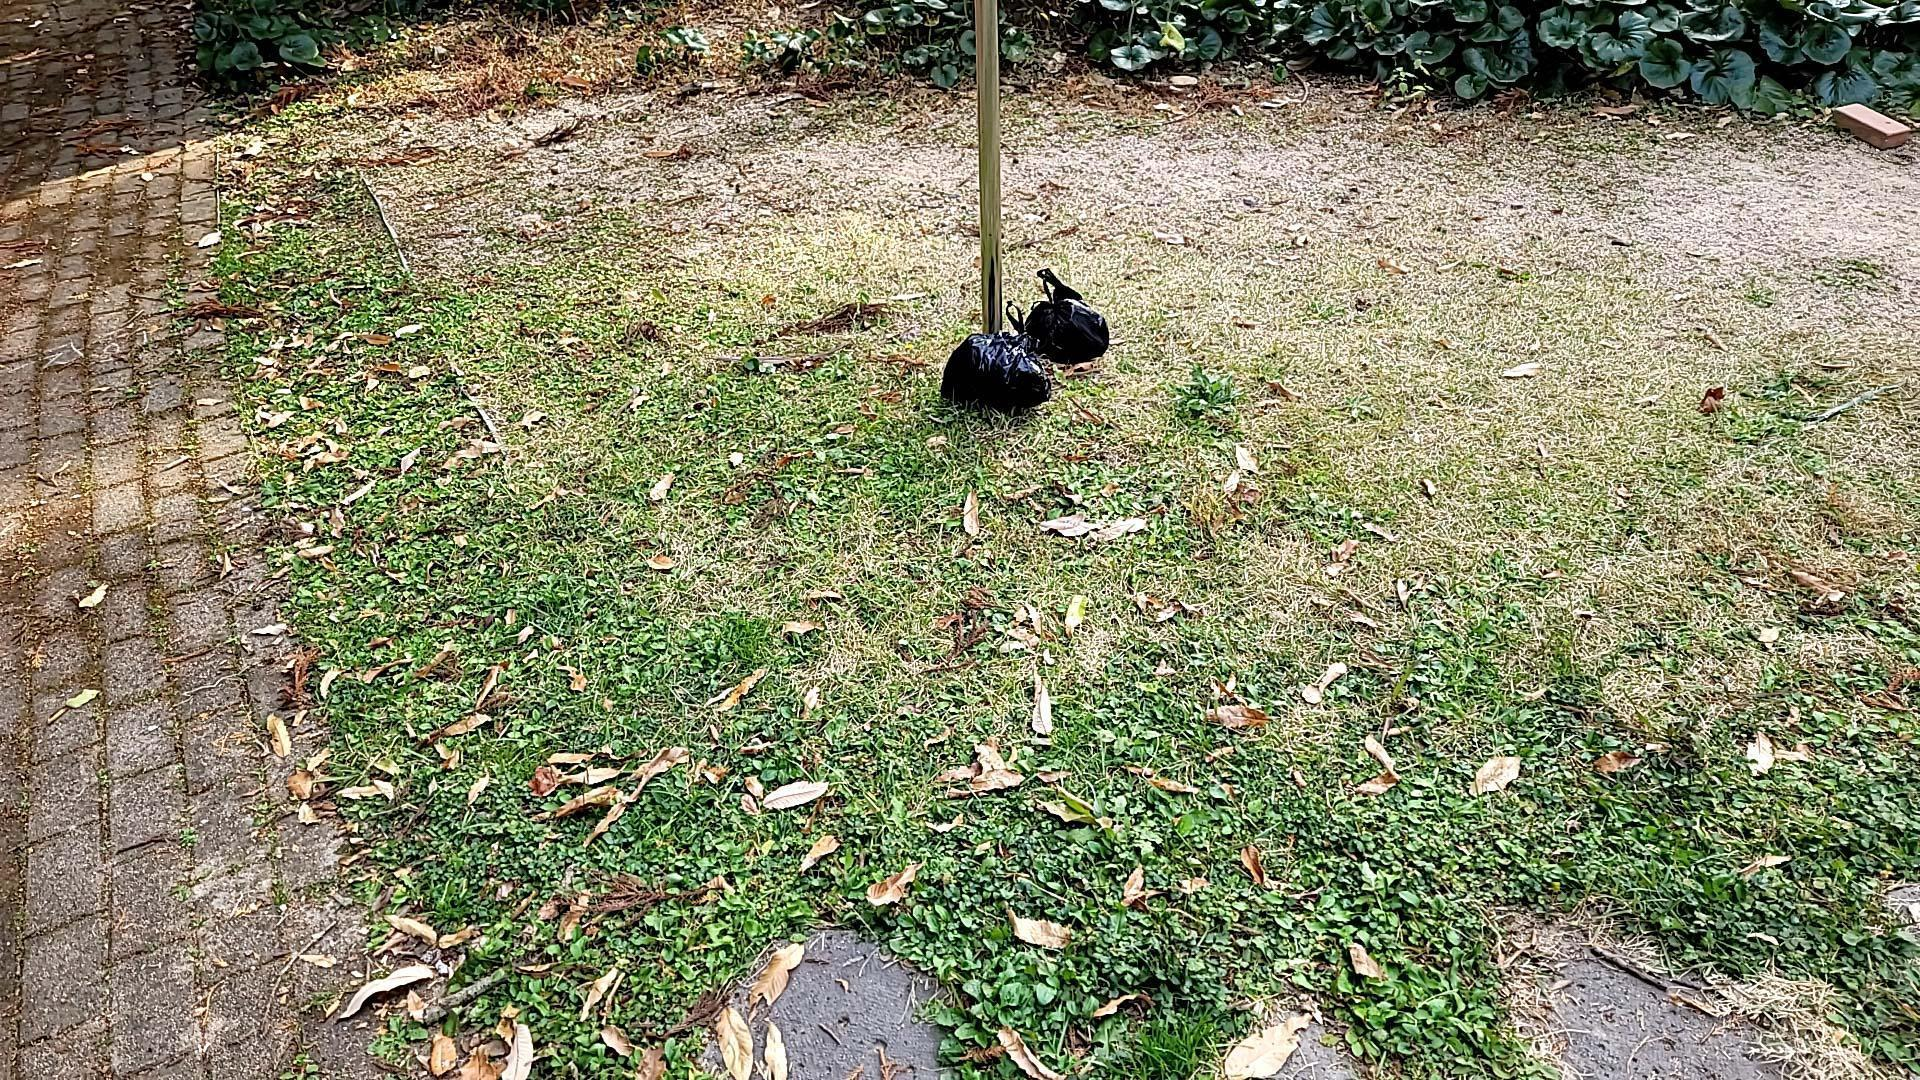black_bag: (934, 301, 1050, 411), (1022, 264, 1112, 367)
